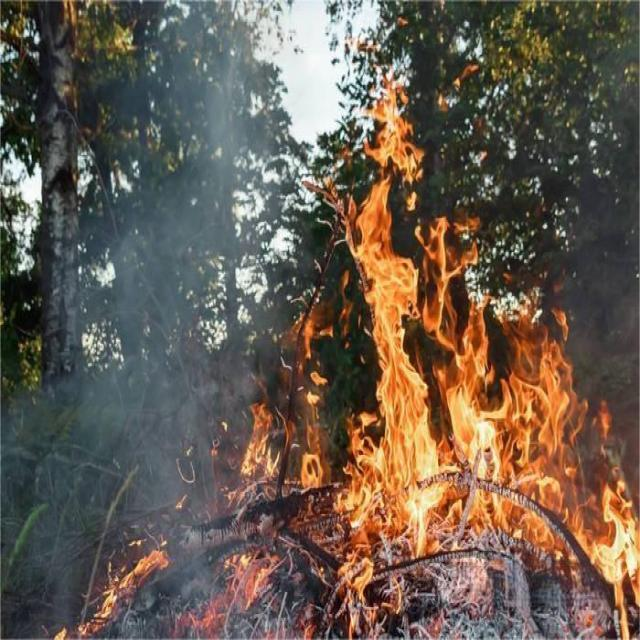Fire: (326, 78, 640, 576)
